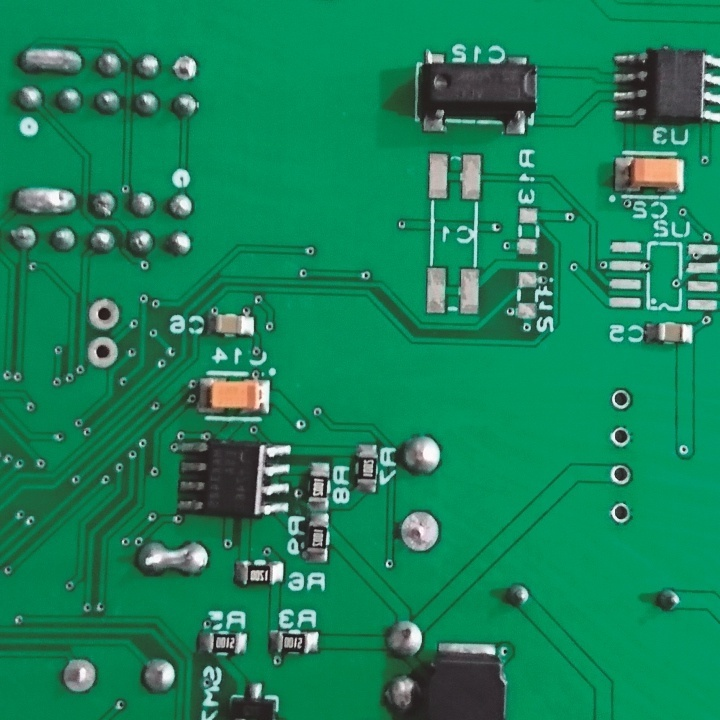F: (399, 509, 442, 555), (63, 658, 99, 695), (86, 297, 123, 332), (86, 334, 119, 368), (607, 385, 635, 412), (608, 500, 635, 528), (173, 55, 198, 83), (609, 424, 633, 452), (610, 462, 633, 490)
P: (134, 538, 214, 578), (12, 180, 79, 218), (16, 43, 85, 77)
